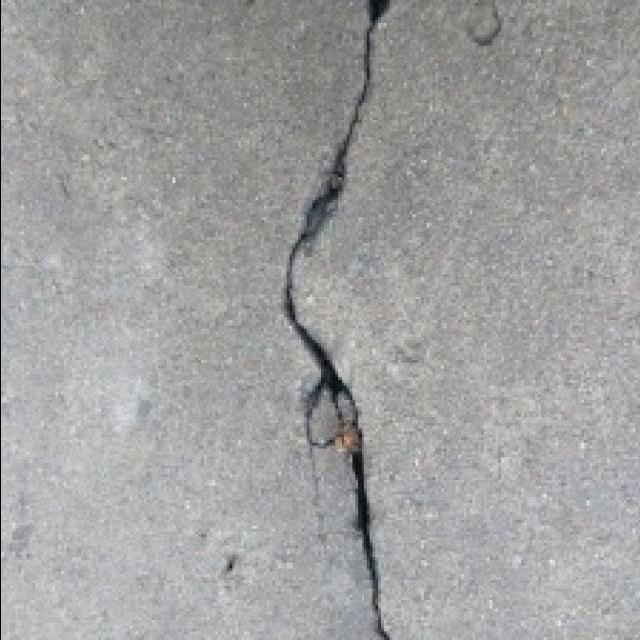SurfaceCrack: (242, 0, 460, 640)
